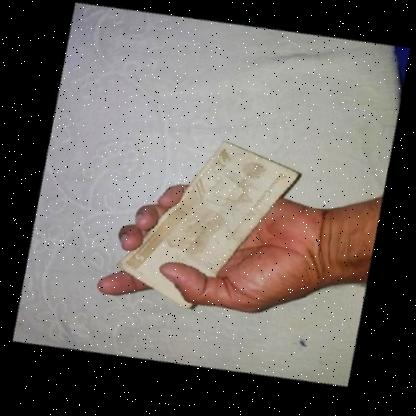five-back-vef: (108, 134, 306, 318)
